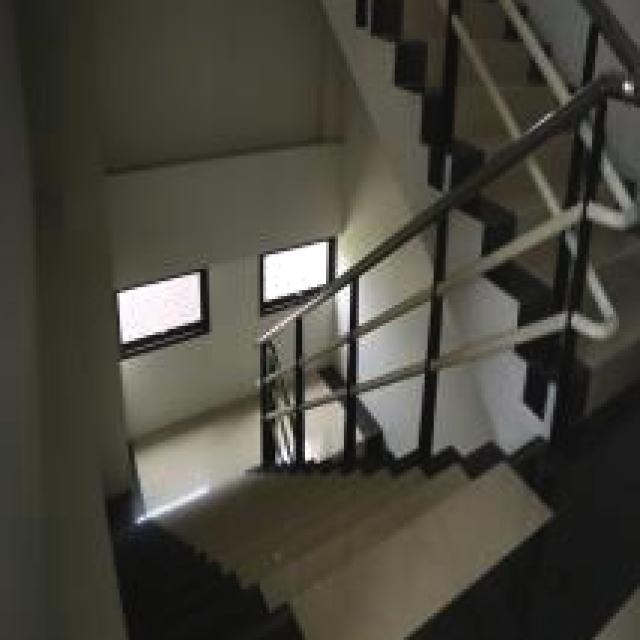downstair: (111, 461, 614, 640)
